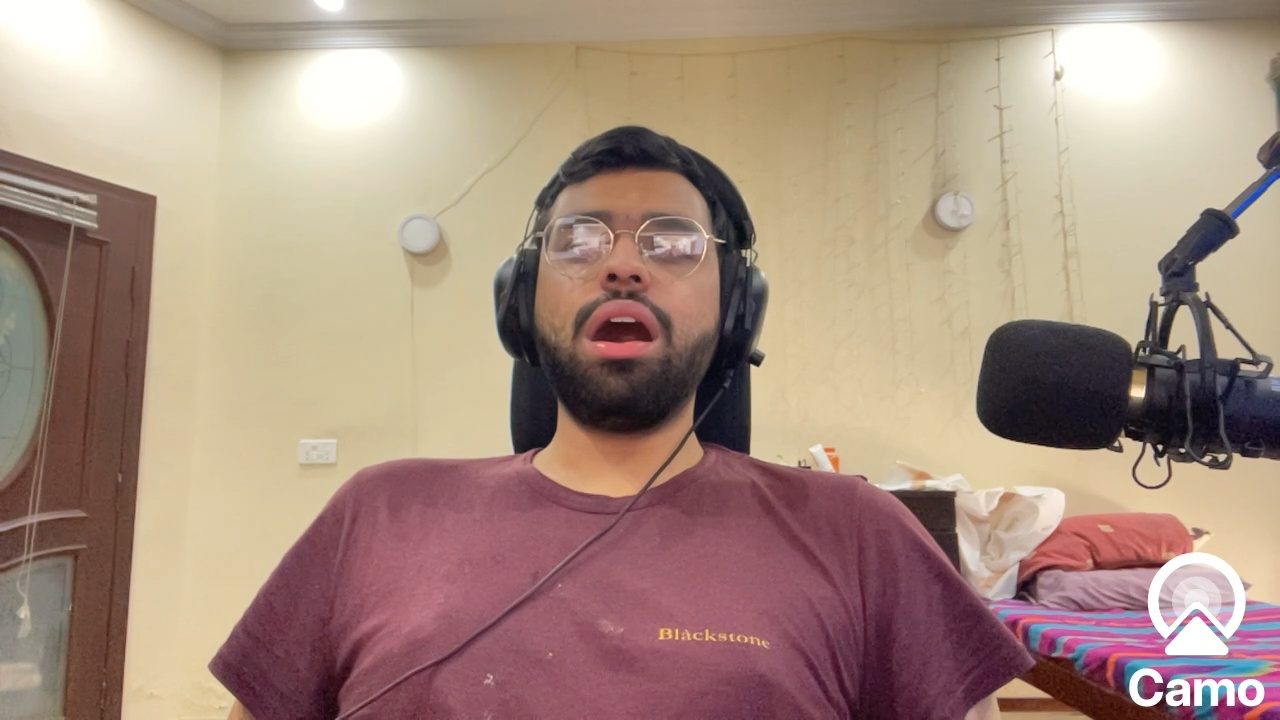surprised: (529, 159, 733, 434)
